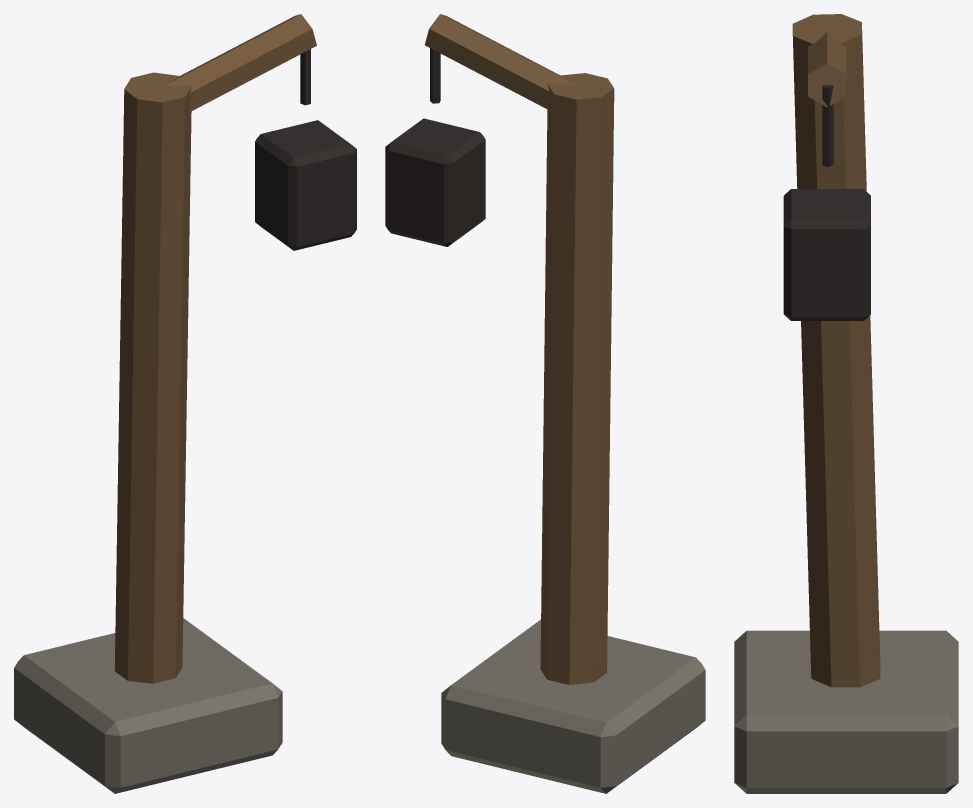
The model's file is LanternPost.glb.
3 views of the same model, side by side, from view 1: azimuth 30°, elevation 25°; view 2: azimuth 150°, elevation 25°; view 3: azimuth 270°, elevation 25° (orthographic). The views are drawn at different scales.
Visible parts, largest first — view 1: Body; view 2: Body; view 3: Body.
Part boxes in pixels (bbox=[...]): Body: bbox=[14, 14, 356, 793]; Body: bbox=[385, 14, 705, 793]; Body: bbox=[734, 14, 958, 793].
Bounding box in the file's own units: 2.76 × 6.77 × 1.8.
